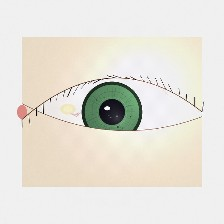pinguecula_lesion: (52, 97, 84, 122)
